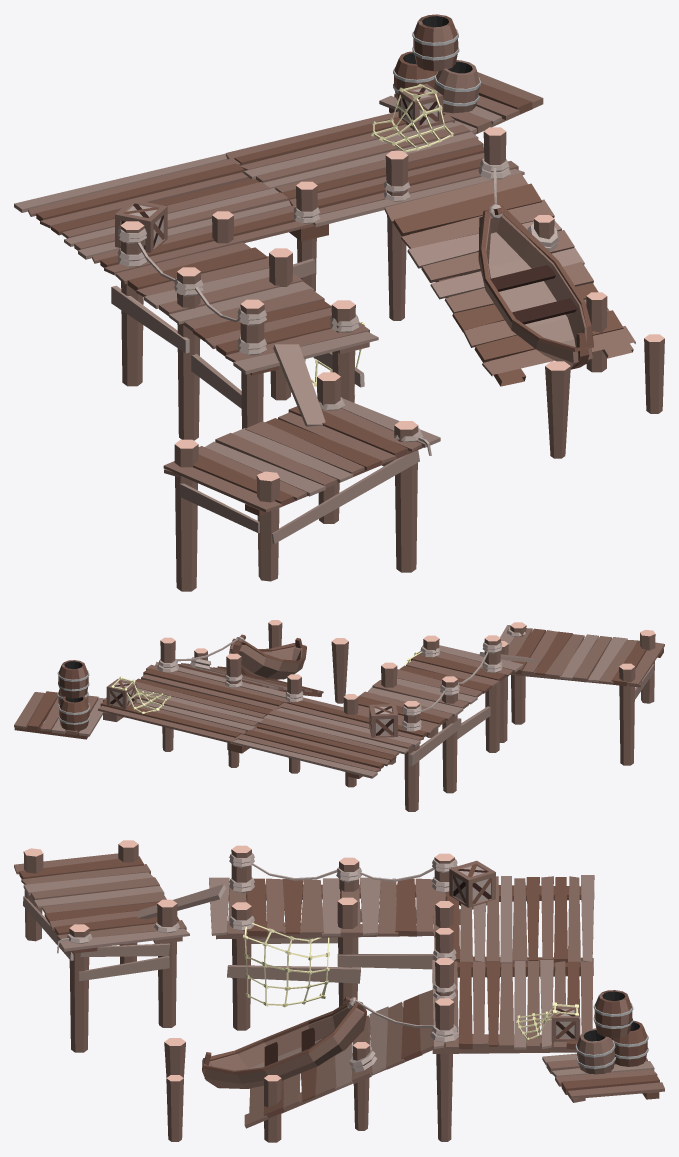
File: platform_006.fbx
3 views of the same model, one above another, from view 1: azimuth 30°, elevation 25°; view 2: azimuth 150°, elevation 25°; view 3: azimuth 270°, elevation 25° (orthographic). The views are drawn at different scales.
Visible parts, largest first — view 1: platform.006; view 2: platform.006; view 3: platform.006.
Boxes of the visible parts, left/top/right/bottom form: platform.006: left=14, top=14, right=664, bottom=591; platform.006: left=14, top=620, right=664, bottom=811; platform.006: left=14, top=840, right=664, bottom=1142.
Size of the model in its own units: 2767 by 956 by 2879.
1 material, 1 textured.
